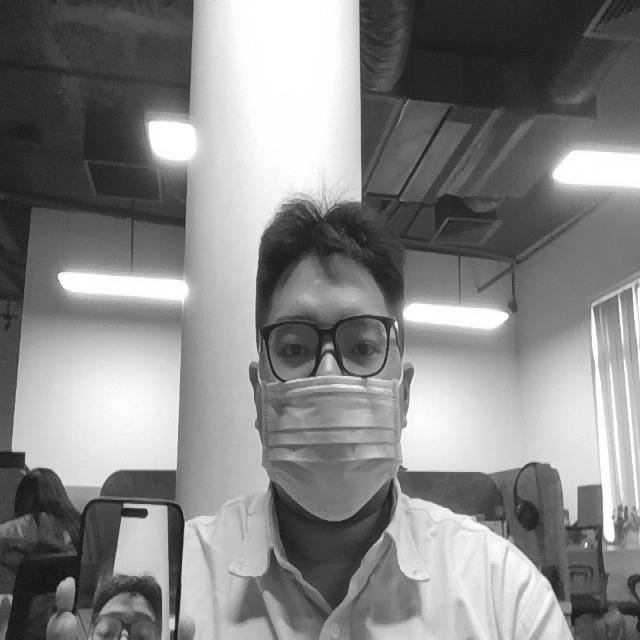fake: (259, 373, 406, 528), (69, 478, 192, 640), (83, 568, 170, 640)
real: (247, 185, 417, 527), (275, 308, 394, 375)
